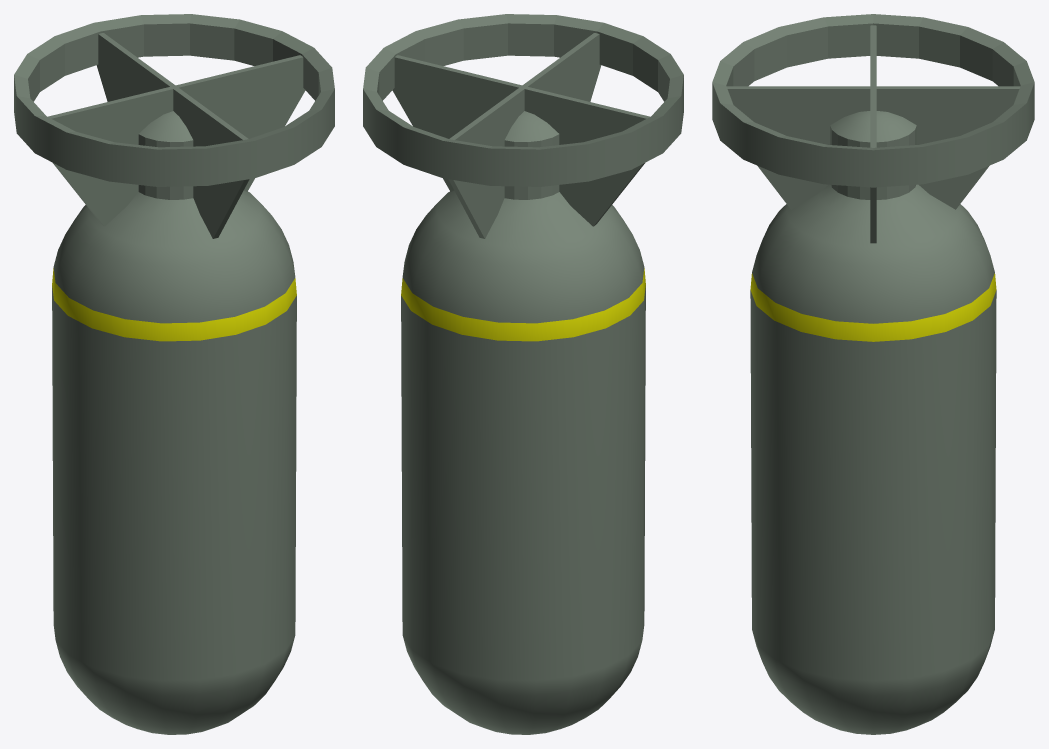
The model's file is bomb2.fbx.
3 views of the same model, side by side, from view 1: azimuth 30°, elevation 25°; view 2: azimuth 150°, elevation 25°; view 3: azimuth 270°, elevation 25° (orthographic).
Parts seen in each view (by area): view 1: pSphere2; view 2: pSphere2; view 3: pSphere2.
Part boxes in pixels (<box>): pSphere2: <box>14,14,334,734</box>; pSphere2: <box>363,14,683,734</box>; pSphere2: <box>712,14,1034,734</box>.
Size of the model in its own units: 2.3 by 5.05 by 2.3.
